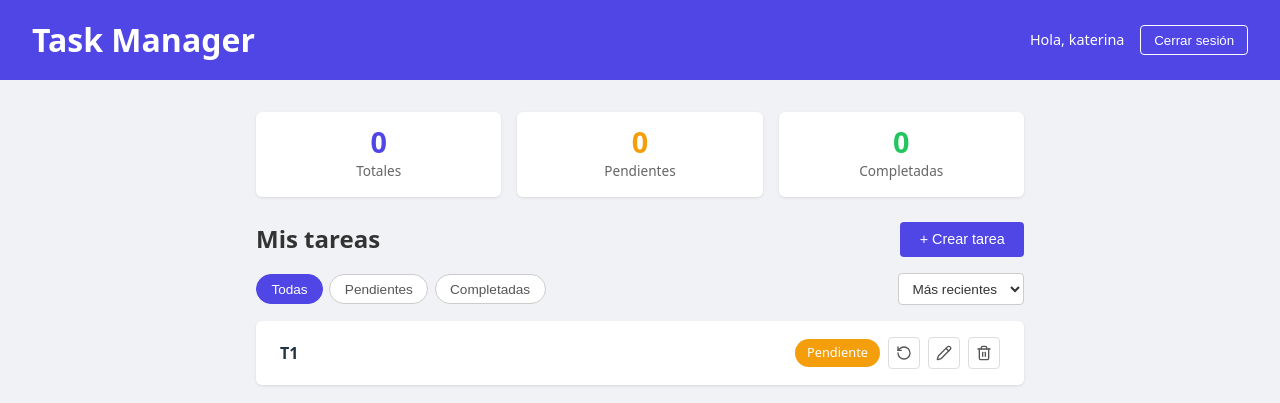
Test: Dashboard › cambia el estado de una tarea
Expected: the text "T1" is shown, [280, 342, 298, 364]
Click the button titled "Cambiar estado".
click(904, 353)  # box [888, 337, 920, 369]
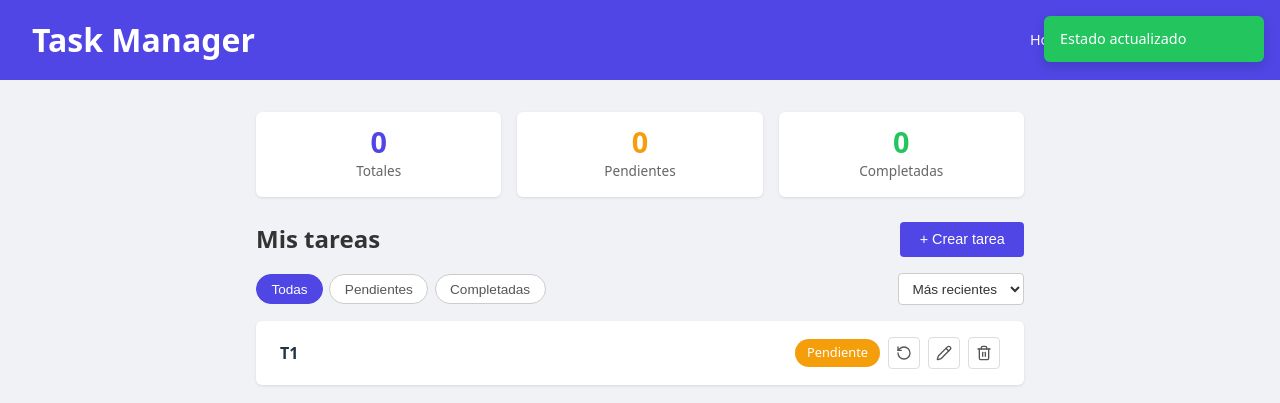
Now the text "Estado actualizado" is shown, box [1044, 16, 1264, 62]
